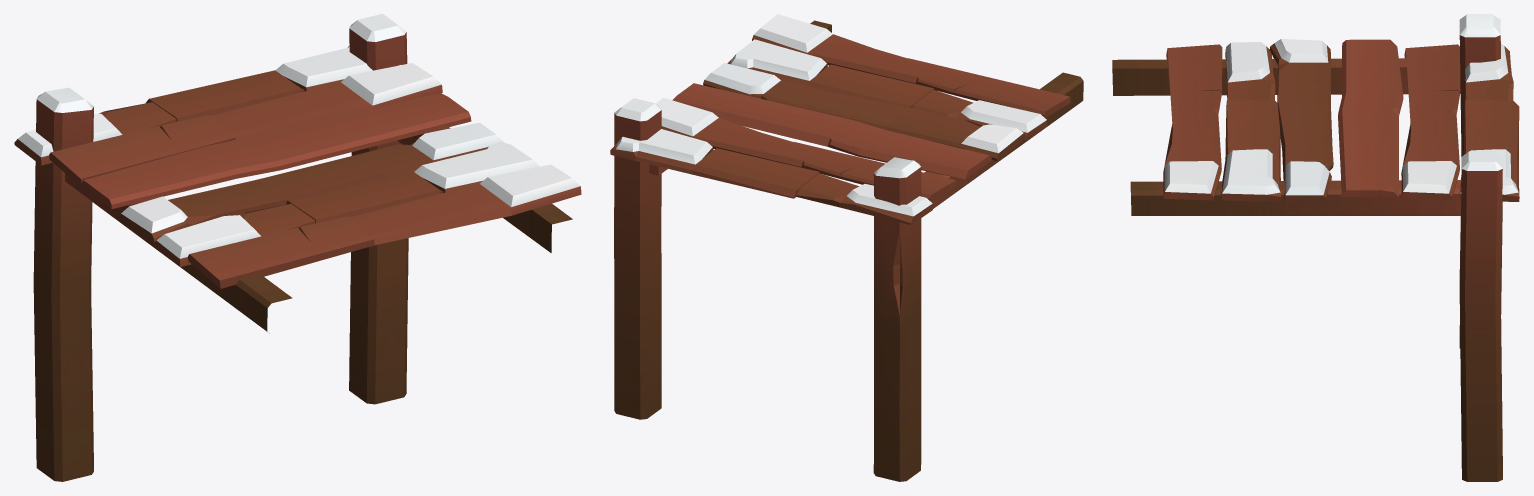
The picture shows the model from 3 angles, left to right: view 1: azimuth 30°, elevation 25°; view 2: azimuth 150°, elevation 25°; view 3: azimuth 270°, elevation 25°; orthographic projection. The views are drawn at different scales.
Visible parts, largest first — view 1: SnowyPier; view 2: SnowyPier; view 3: SnowyPier.
Part boxes in pixels (x1,y1,x2,y2): SnowyPier: (14, 14, 581, 481); SnowyPier: (610, 14, 1083, 481); SnowyPier: (1112, 14, 1519, 481).
Size of the model in its own units: 2.48 by 2.41 by 2.76.
Materials: 1 (1 with a texture image).
